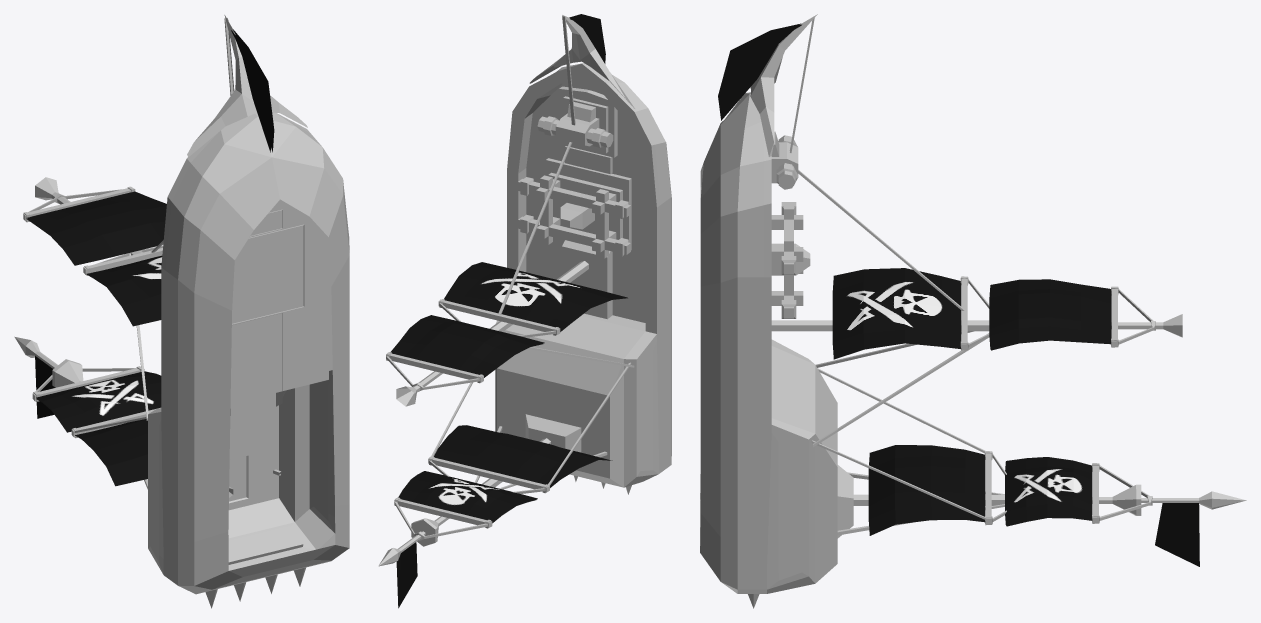
Rendered from pirate_my_1.fbx.
3 views of the same model, side by side, from view 1: azimuth 30°, elevation 25°; view 2: azimuth 150°, elevation 25°; view 3: azimuth 270°, elevation 25° (orthographic). The views are drawn at different scales.
Parts seen in each view (by area): view 1: Cube.144; view 2: Cube.144; view 3: Cube.144.
Part boxes in pixels (x1,y1,x2,y2): Cube.144: [14, 15, 349, 608]; Cube.144: [378, 14, 671, 608]; Cube.144: [700, 14, 1246, 608].
Size of the model in its own units: 383 by 1199 by 1037.
